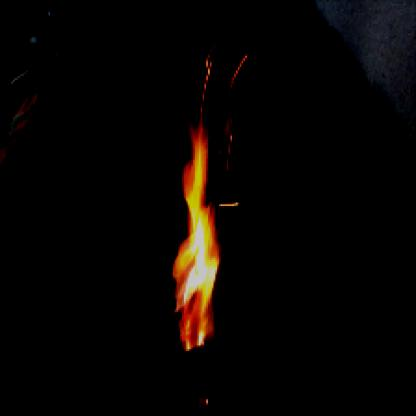Fire: (171, 95, 238, 356)
